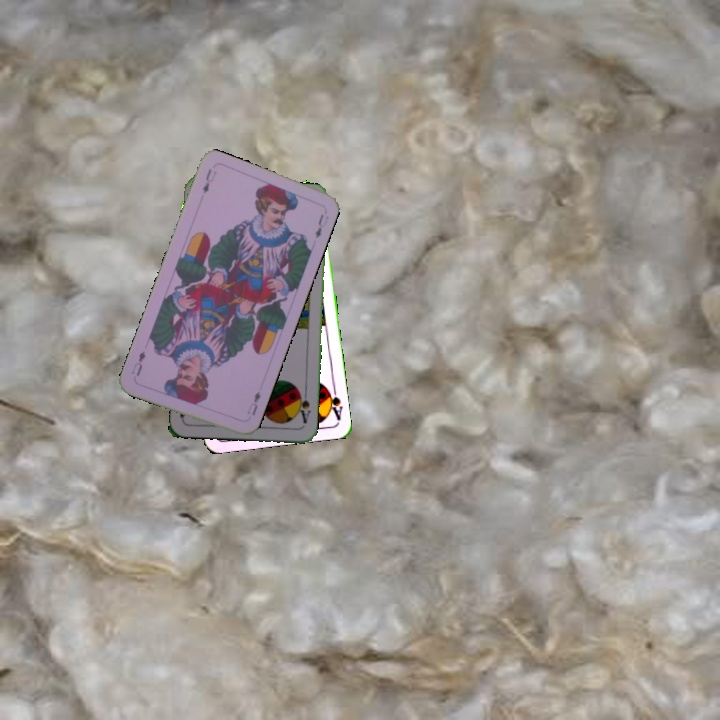EU: (198, 165, 219, 196), (243, 387, 263, 418)
SA: (322, 382, 345, 422), (294, 387, 313, 426)
